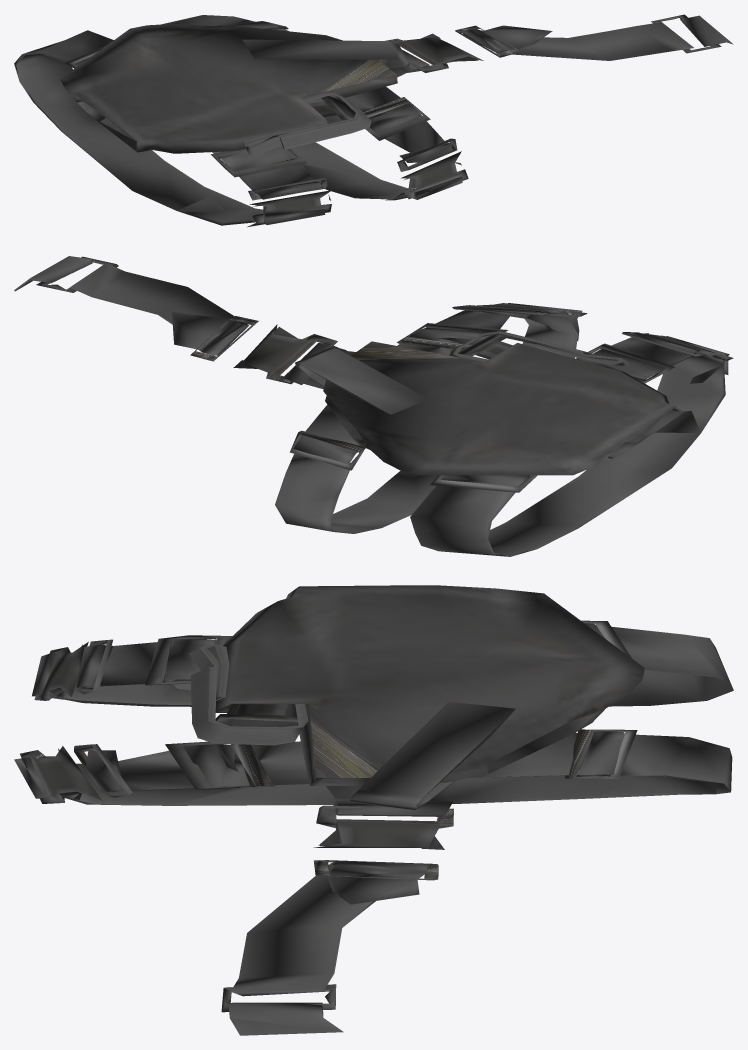
Rendered from GunRunnersHolster_Ground.fbx.
3 renders of one model, top to bottom at view 1: azimuth 30°, elevation 25°; view 2: azimuth 150°, elevation 25°; view 3: azimuth 270°, elevation 25°, orthographic. The views are drawn at different scales.
Visible parts, largest first — view 1: GunRunnerHolster; view 2: GunRunnerHolster; view 3: GunRunnerHolster.
Boxes of the visible parts, <box> form: GunRunnerHolster: <box>14,14,733,227</box>; GunRunnerHolster: <box>14,256,733,556</box>; GunRunnerHolster: <box>14,585,733,1035</box>.
Bounding box in the file's own units: 0.1889 × 0.0195 × 0.1399.
